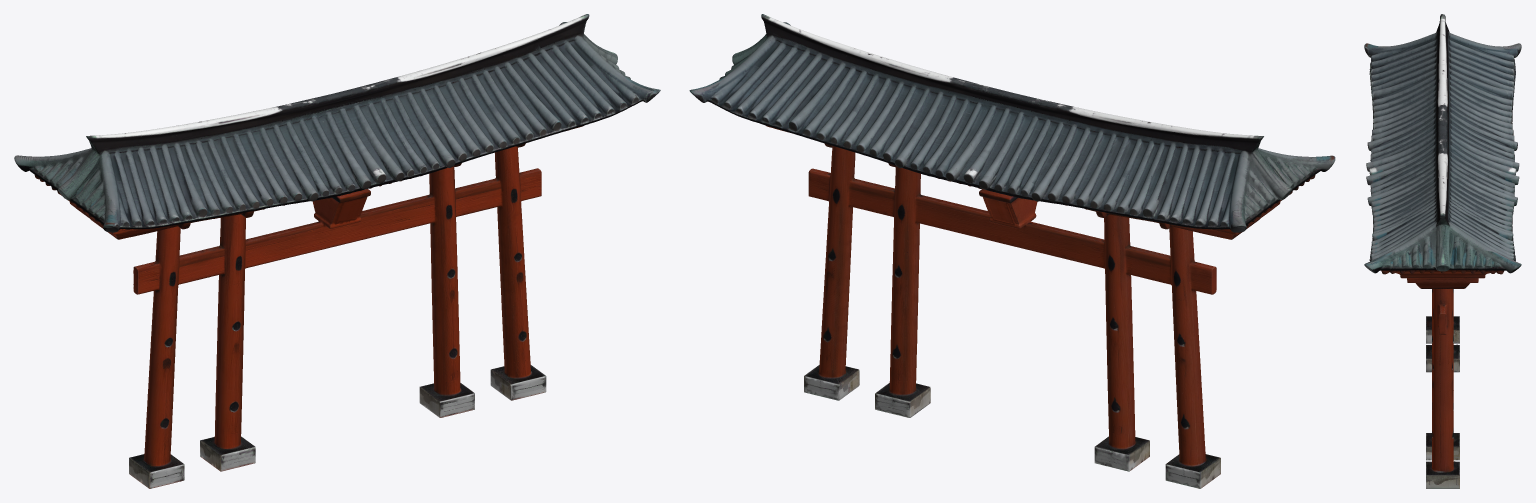
Rendered from torii.glb.
3 views of the same model, side by side, from view 1: azimuth 30°, elevation 25°; view 2: azimuth 150°, elevation 25°; view 3: azimuth 270°, elevation 25° (orthographic). The views are drawn at different scales.
Bounding box in the file's own units: 1.9 × 1.17 × 0.5643.
Materials: 1 (1 with a texture image).
